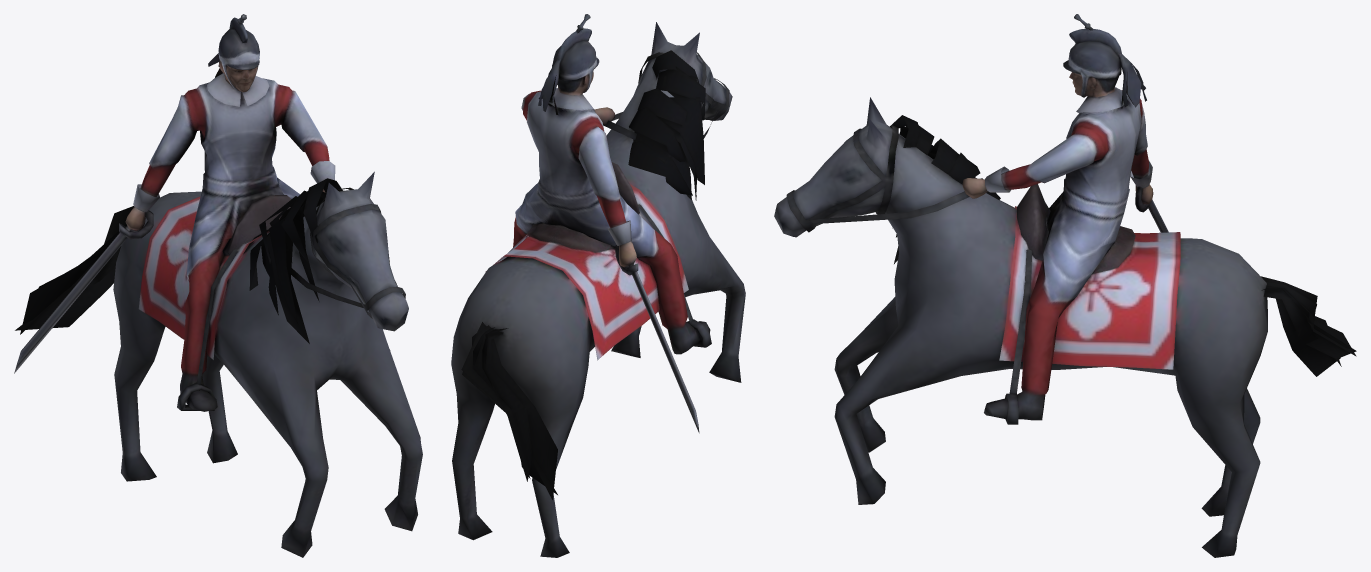
File: Dragoons.glb
3 views of the same model, side by side, from view 1: azimuth 30°, elevation 25°; view 2: azimuth 150°, elevation 25°; view 3: azimuth 270°, elevation 25° (orthographic). The views are drawn at different scales.
Parts seen in each view (by area): view 1: hor_low, sol_low; view 2: hor_low, sol_low; view 3: hor_low, sol_low.
Part boxes in pixels (x1=…): hor_low: x1=15, y1=171, x2=422, y2=557; sol_low: x1=14, y1=14, x2=335, y2=411; hor_low: x1=451, y1=22, x2=745, y2=557; sol_low: x1=513, y1=14, x2=710, y2=433; hor_low: x1=774, y1=97, x2=1356, y2=557; sol_low: x1=962, y1=14, x2=1168, y2=420.
Bounding box in the file's own units: 1.48 × 2.48 × 2.55.
2 materials, 2 textured.
